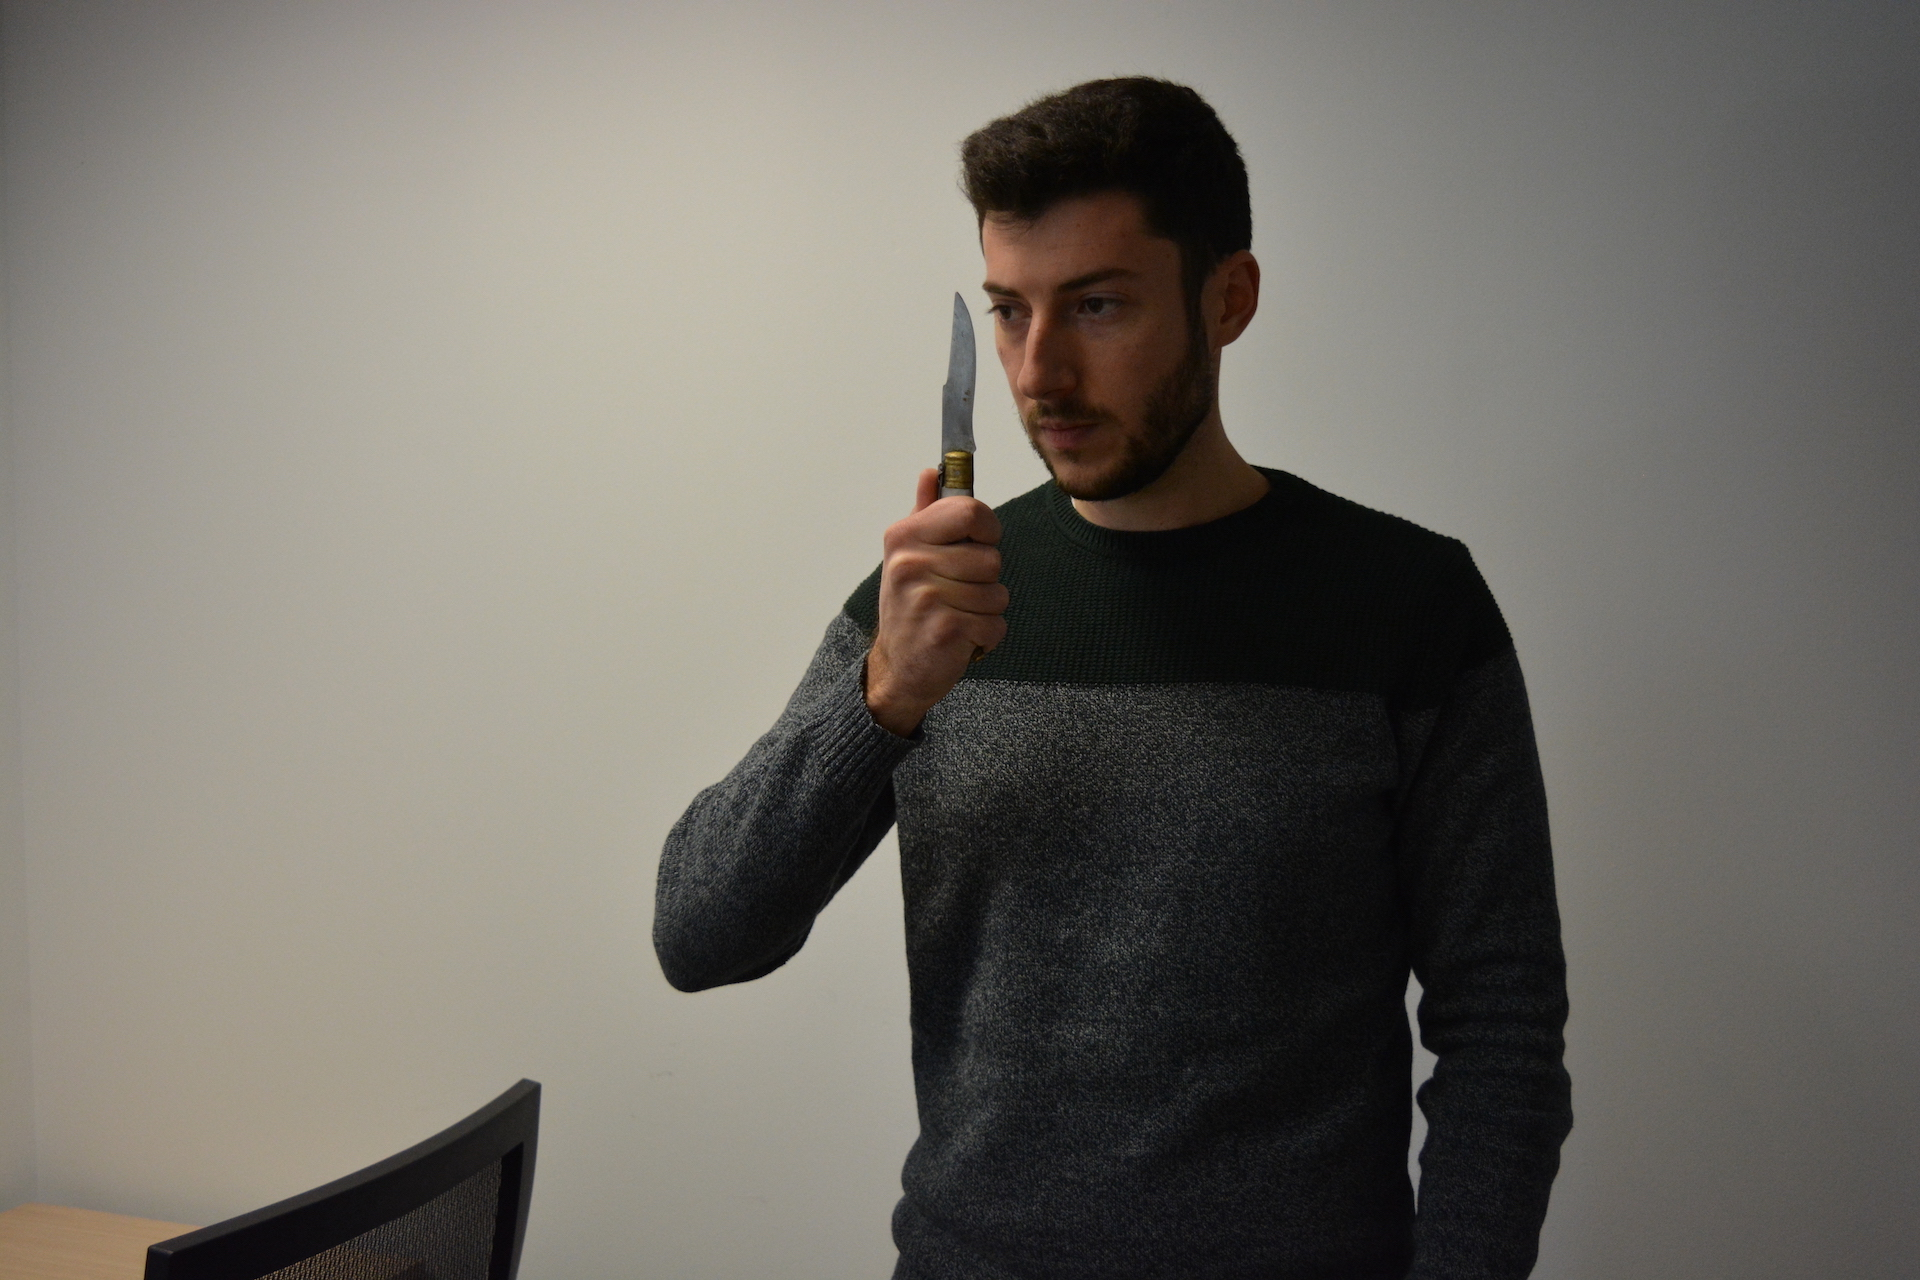knife: (906, 286, 1009, 549)
